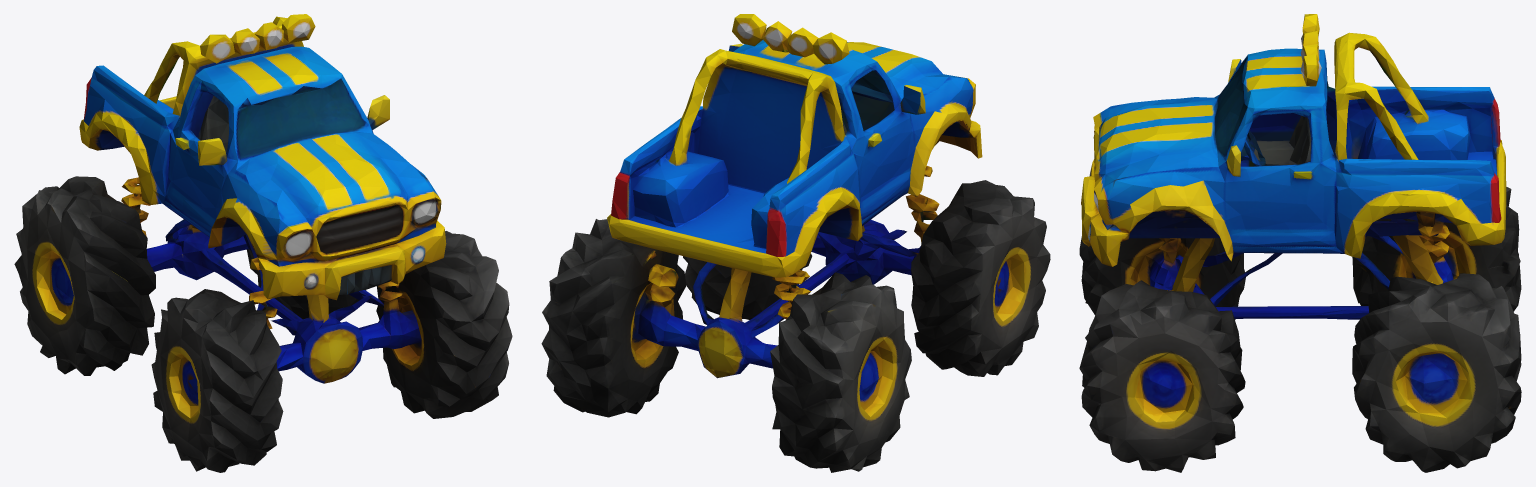
File: bigfoot.glb
The picture shows the model from 3 angles, left to right: view 1: azimuth 30°, elevation 25°; view 2: azimuth 150°, elevation 25°; view 3: azimuth 270°, elevation 25°; orthographic projection. The views are drawn at different scales.
Visible parts, largest first — view 1: geometry_0; view 2: geometry_0; view 3: geometry_0.
Boxes of the visible parts, x1,y1,x2,y2 form: geometry_0: (14, 14, 512, 472); geometry_0: (541, 14, 1050, 472); geometry_0: (1079, 14, 1521, 472).
Size of the model in its own units: 0.8112 by 0.9207 by 0.9951.
1 material, 1 textured.
